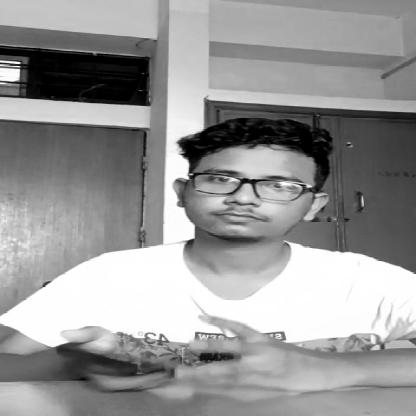Normal: (147, 122, 335, 238)
